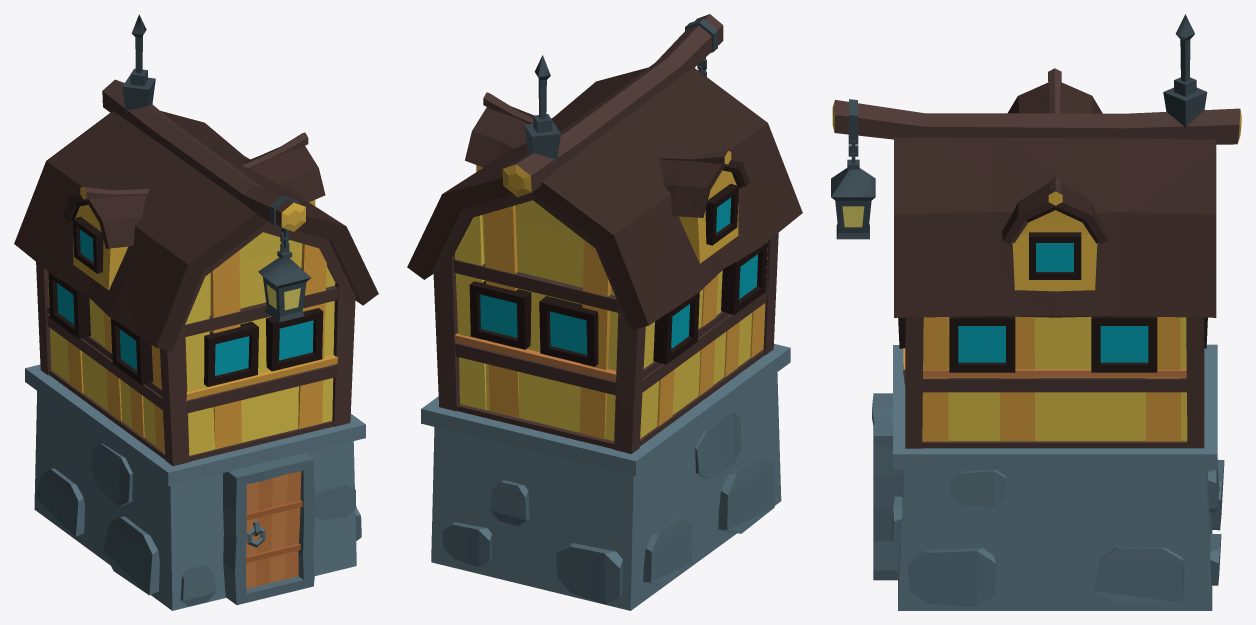
File: House_1-4.fbx
The picture shows the model from 3 angles, left to right: view 1: azimuth 30°, elevation 25°; view 2: azimuth 150°, elevation 25°; view 3: azimuth 270°, elevation 25°; orthographic projection. The views are drawn at different scales.
Visible parts, largest first — view 1: Village_BG_Bd_Dock01_A.004; view 2: Village_BG_Bd_Dock01_A.004; view 3: Village_BG_Bd_Dock01_A.004.
Boxes of the visible parts, bbox=[...] form: Village_BG_Bd_Dock01_A.004: bbox=[14, 14, 378, 610]; Village_BG_Bd_Dock01_A.004: bbox=[407, 14, 802, 610]; Village_BG_Bd_Dock01_A.004: bbox=[831, 14, 1241, 610].
Bounding box in the file's own units: 321 × 653 × 445.
